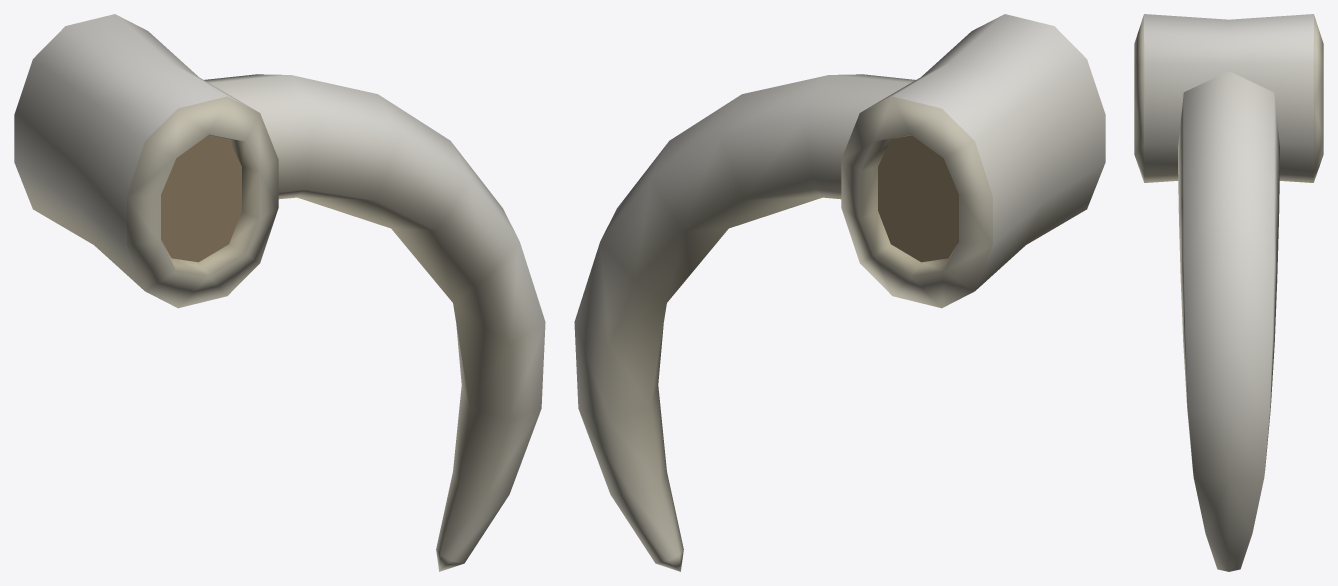
File: DinoRib_0.glb
3 renders of one model, left to right at view 1: azimuth 30°, elevation 25°; view 2: azimuth 150°, elevation 25°; view 3: azimuth 270°, elevation 25°, orthographic. The views are drawn at different scales.
Parts seen in each view (by area): view 1: DinoRib; view 2: DinoRib; view 3: DinoRib.
Part boxes in pixels (x1=…): DinoRib: x1=14, y1=14, x2=545, y2=571; DinoRib: x1=574, y1=14, x2=1105, y2=571; DinoRib: x1=1134, y1=14, x2=1323, y2=571.
Size of the model in its own units: 3.11 by 3.76 by 1.47.
